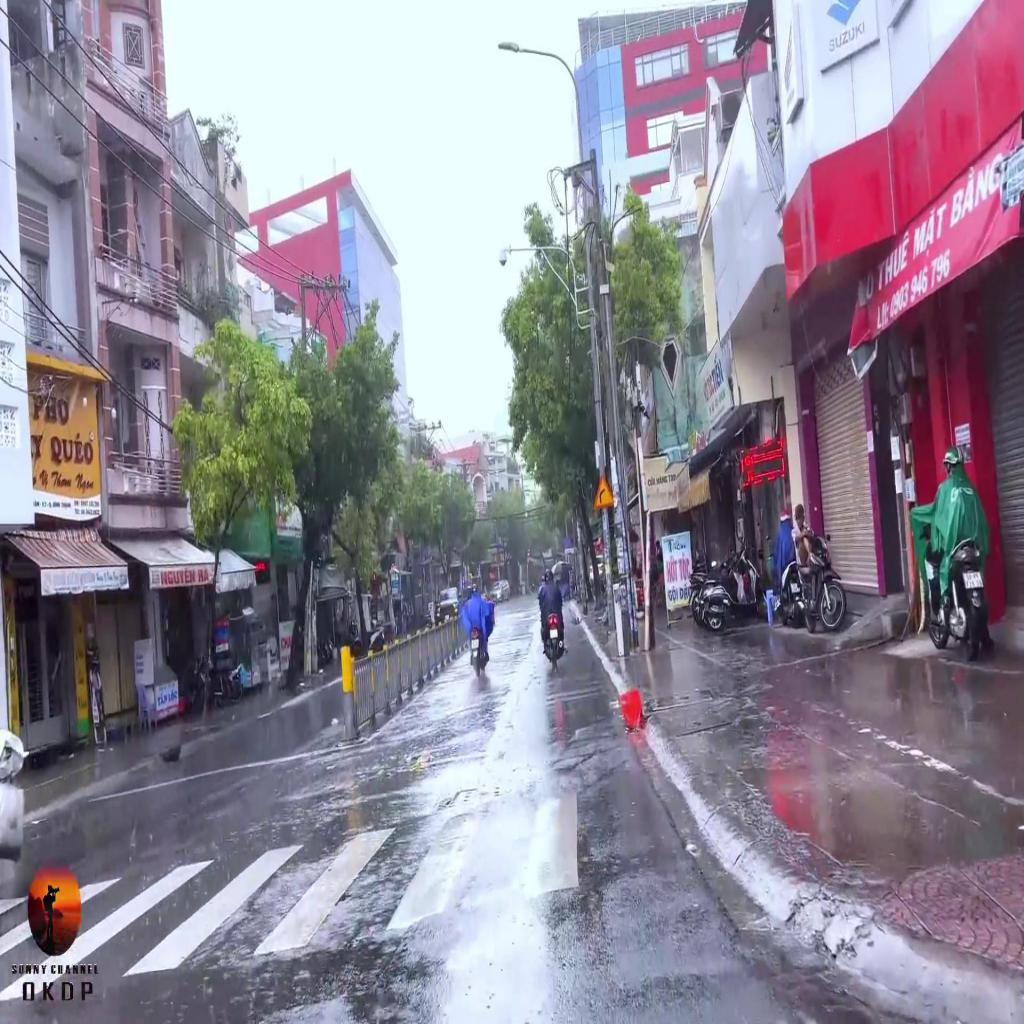cho_ngoat_nguy_hiem_ben_phai: (592, 470, 616, 511)
